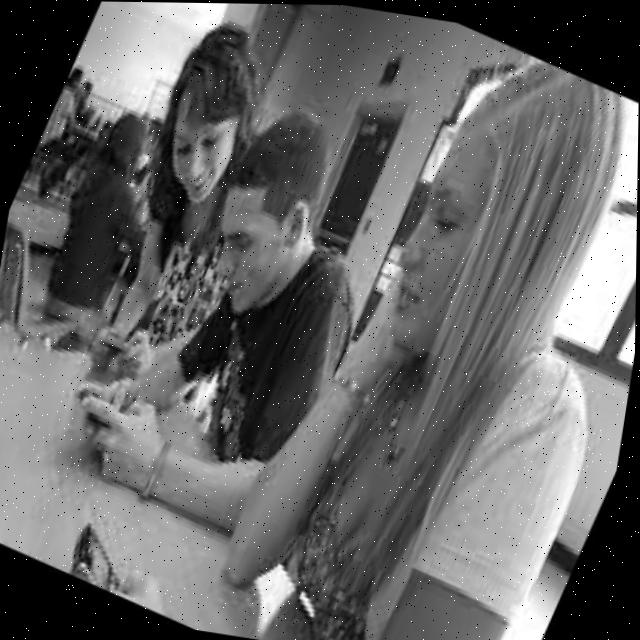phone: (63, 514, 140, 591), (69, 381, 125, 431), (97, 323, 136, 356)
